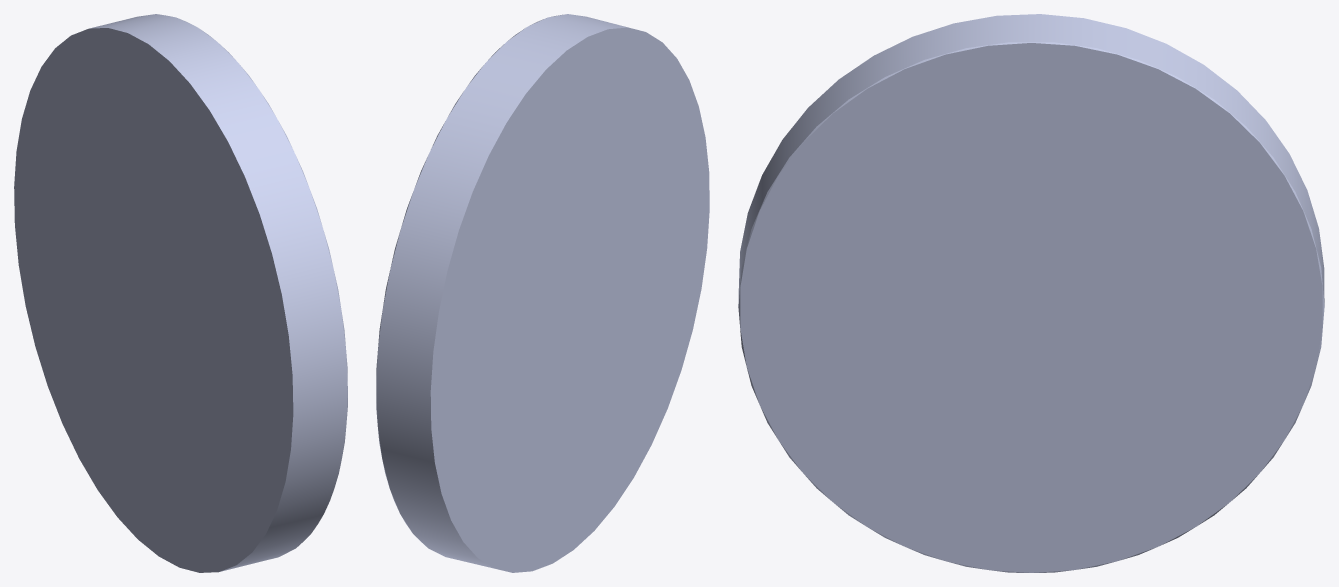
The model's file is hand_2.obj.
3 renders of one model, left to right at view 1: azimuth 30°, elevation 25°; view 2: azimuth 150°, elevation 25°; view 3: azimuth 270°, elevation 25°, orthographic. The views are drawn at different scales.
Parts seen in each view (by area): view 1: Body1; view 2: Body1; view 3: Body1.
Boxes of the visible parts, x1=… form: Body1: x1=14, y1=14, x2=347, y2=572; Body1: x1=376, y1=14, x2=709, y2=572; Body1: x1=738, y1=14, x2=1324, y2=572.
Size of the model in its own units: 0.00668 by 0.057 by 0.057.
